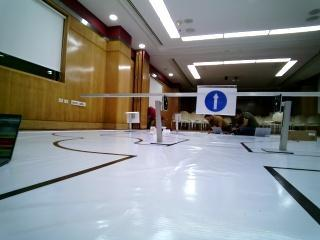straight: (197, 85, 236, 114)
